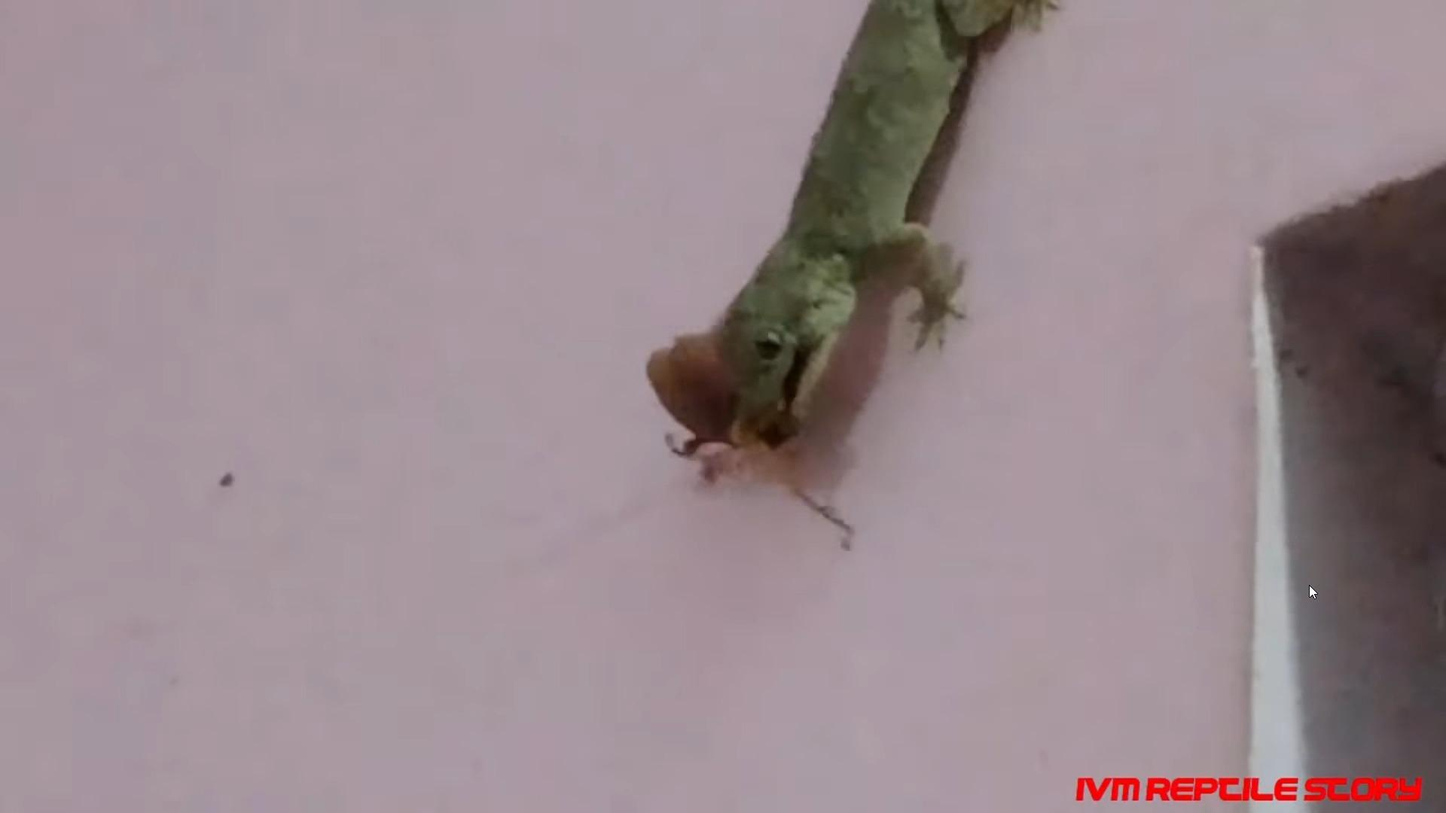cockroach: (631, 332, 820, 485)
lizard: (719, 0, 1035, 417)
